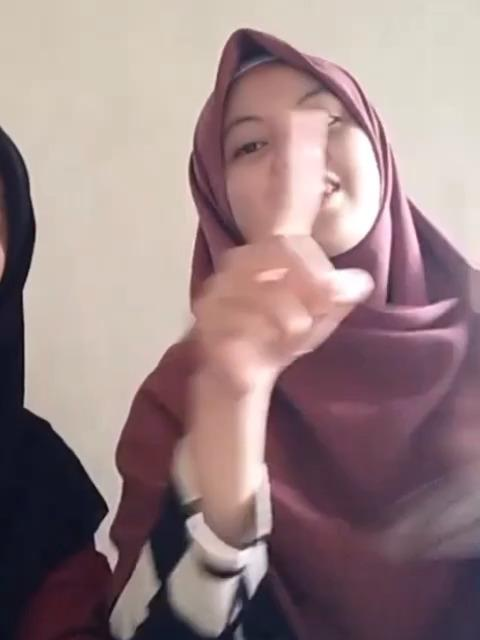Z: (176, 104, 376, 374)
